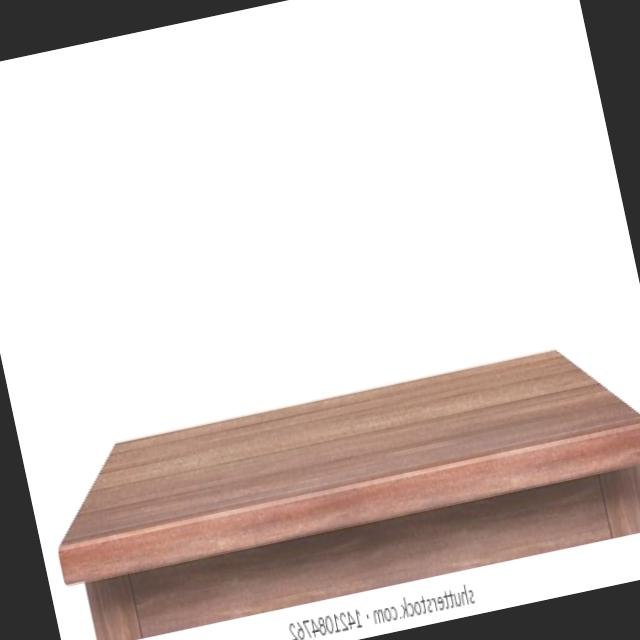obstacle: (10, 237, 640, 640)
